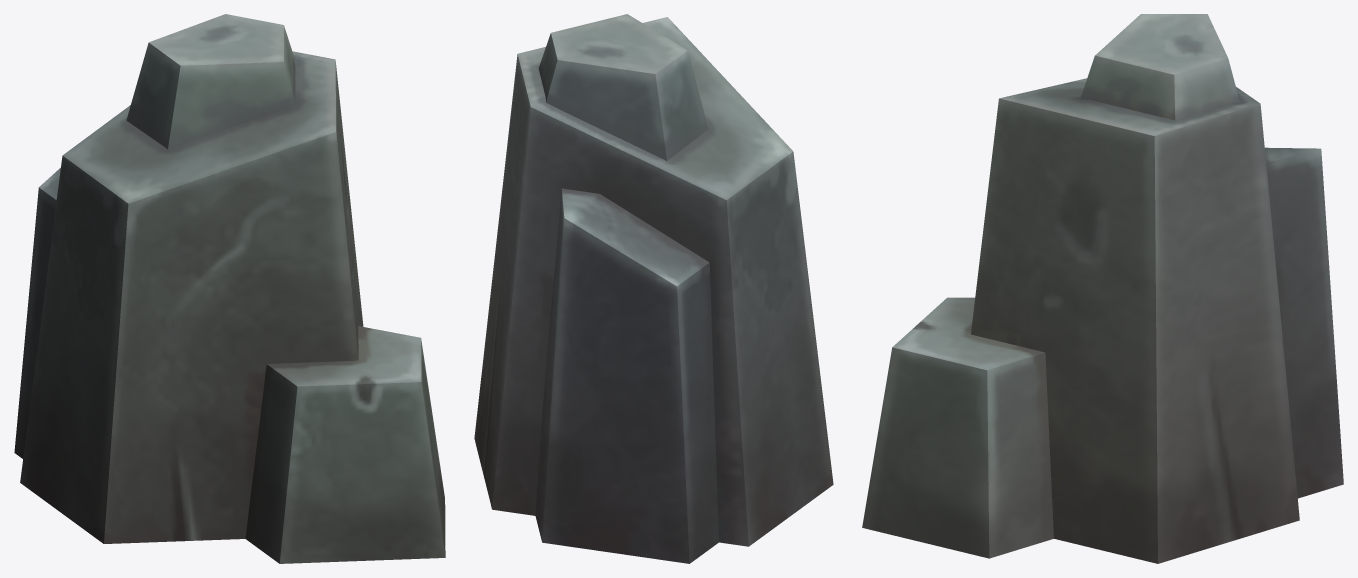
Rendered from stone01.fbx.
3 renders of one model, left to right at view 1: azimuth 30°, elevation 25°; view 2: azimuth 150°, elevation 25°; view 3: azimuth 270°, elevation 25°, orthographic. The views are drawn at different scales.
Visible parts, largest first — view 1: stone01; view 2: stone01; view 3: stone01.
Part boxes in pixels (left/top/right/bottom): stone01: left=14, top=14, right=445, bottom=563; stone01: left=474, top=14, right=833, bottom=563; stone01: left=862, top=14, right=1343, bottom=563.
Size of the model in its own units: 86.33 by 112 by 110.
